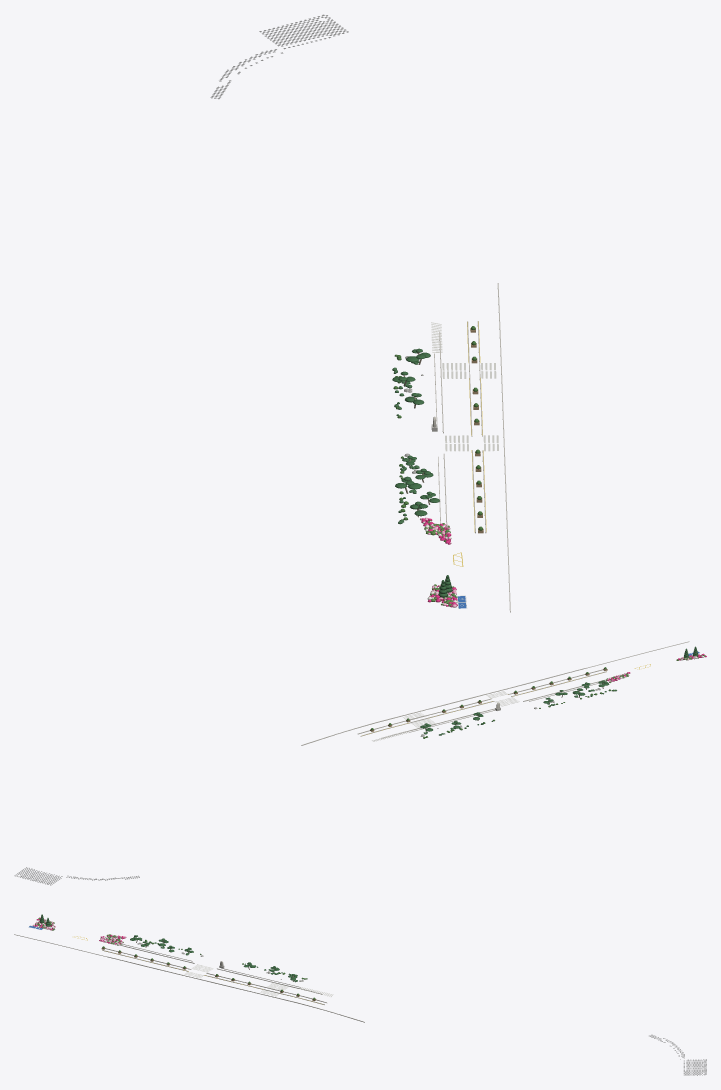
3 renders of one model, top to bottom at view 1: azimuth 30°, elevation 25°; view 2: azimuth 150°, elevation 25°; view 3: azimuth 270°, elevation 25°, orthographic. The views are drawn at different scales.
Visible parts, largest first — view 1: jinri-garden__kerb, jinri-garden__check-dark, jinri-garden__pine, jinri-garden__mark-white; view 2: jinri-garden__kerb, jinri-garden__check-dark, jinri-garden__pine, jinri-garden__mark-white; view 3: jinri-garden__kerb, jinri-garden__check-dark, jinri-garden__mark-white, jinri-garden__pine.
Part boxes in pixels (x1=…): jinri-garden__kerb: x1=434, y1=283, x2=510, y2=612; jinri-garden__check-dark: x1=210, y1=14, x2=348, y2=99; jinri-garden__pine: x1=392, y1=348, x2=452, y2=597; jinri-garden__mark-white: x1=431, y1=322, x2=498, y2=608; jinri-garden__kerb: x1=301, y1=641, x2=689, y2=745; jinri-garden__check-dark: x1=14, y1=867, x2=139, y2=885; jinri-garden__pine: x1=420, y1=646, x2=698, y2=731; jinri-garden__mark-white: x1=372, y1=651, x2=699, y2=741; jinri-garden__kerb: x1=14, y1=934, x2=364, y2=1022; jinri-garden__check-dark: x1=649, y1=1034, x2=706, y2=1075; jinri-garden__mark-white: x1=29, y1=925, x2=333, y2=996; jinri-garden__pine: x1=40, y1=914, x2=297, y2=980.
Size of the model in its own units: 151 by 14.53 by 321.
